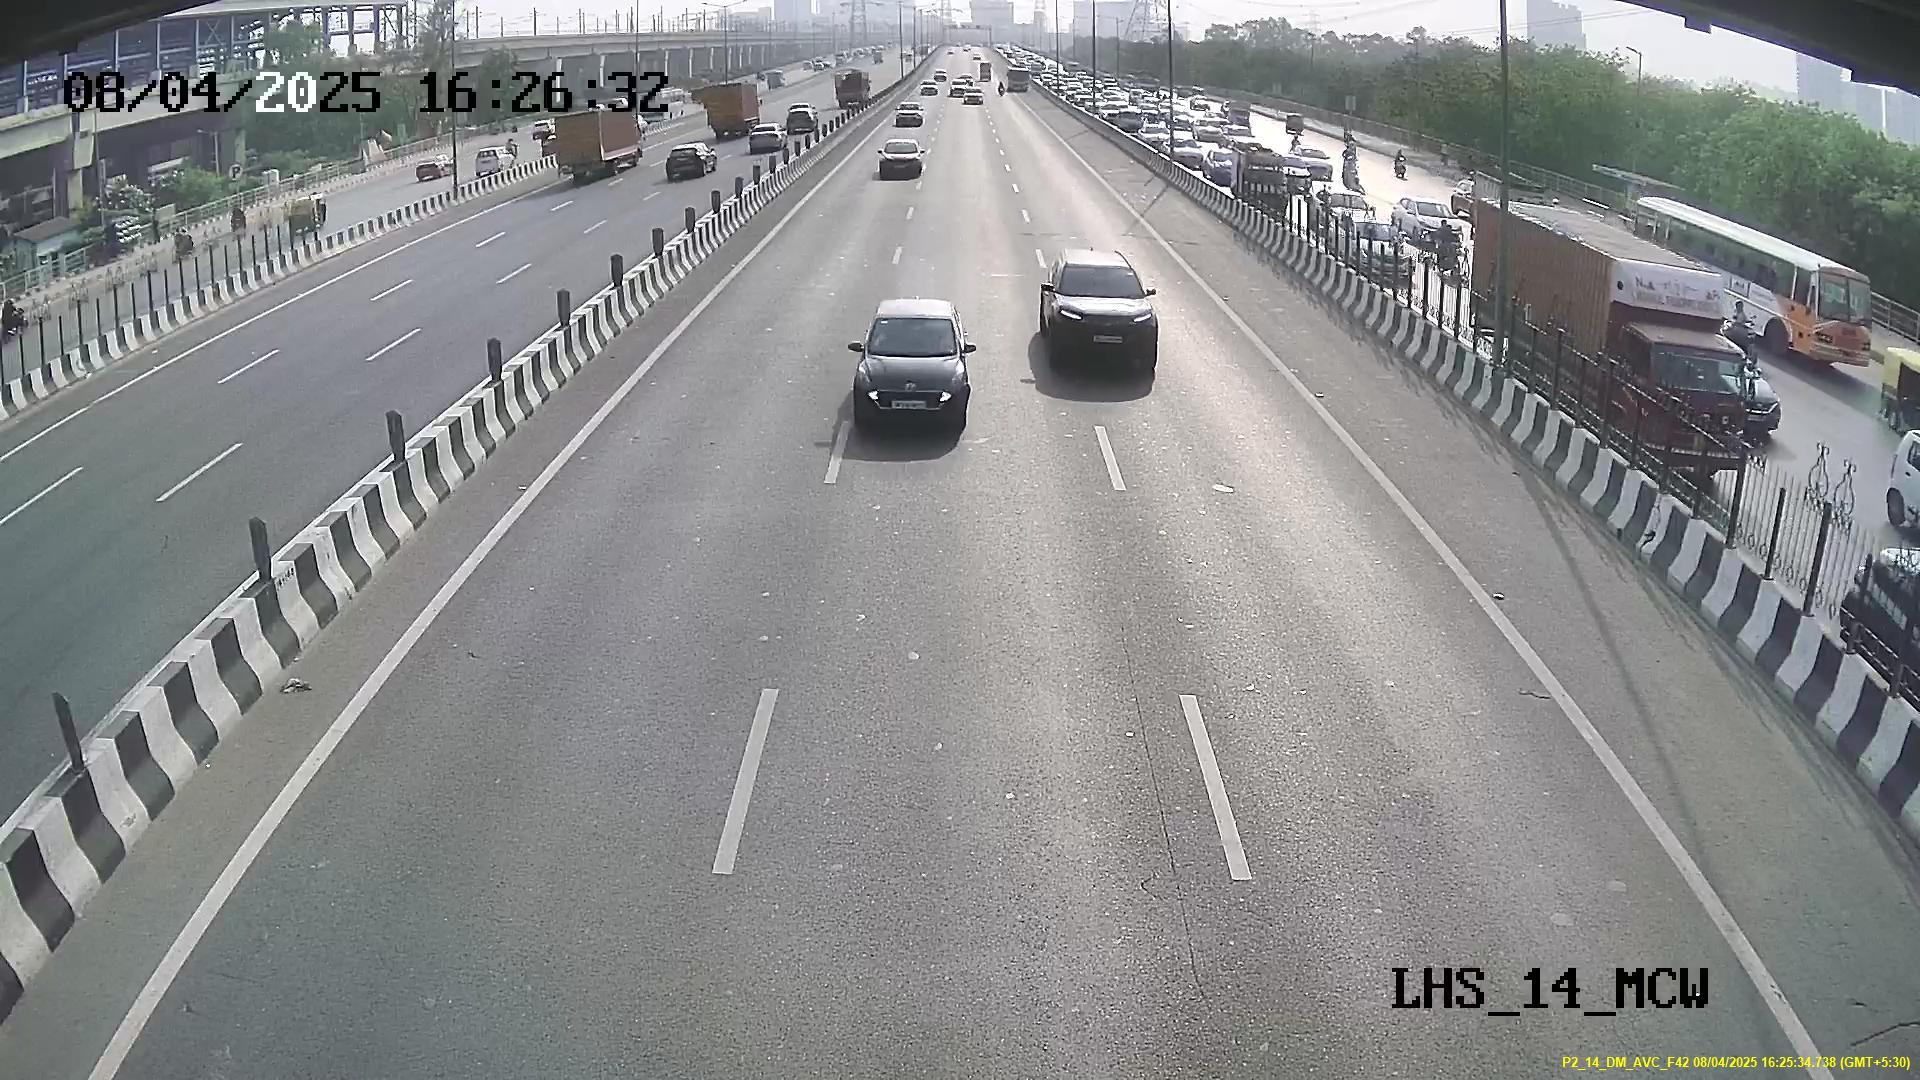car: (848, 306, 968, 431), (1034, 261, 1160, 371)
